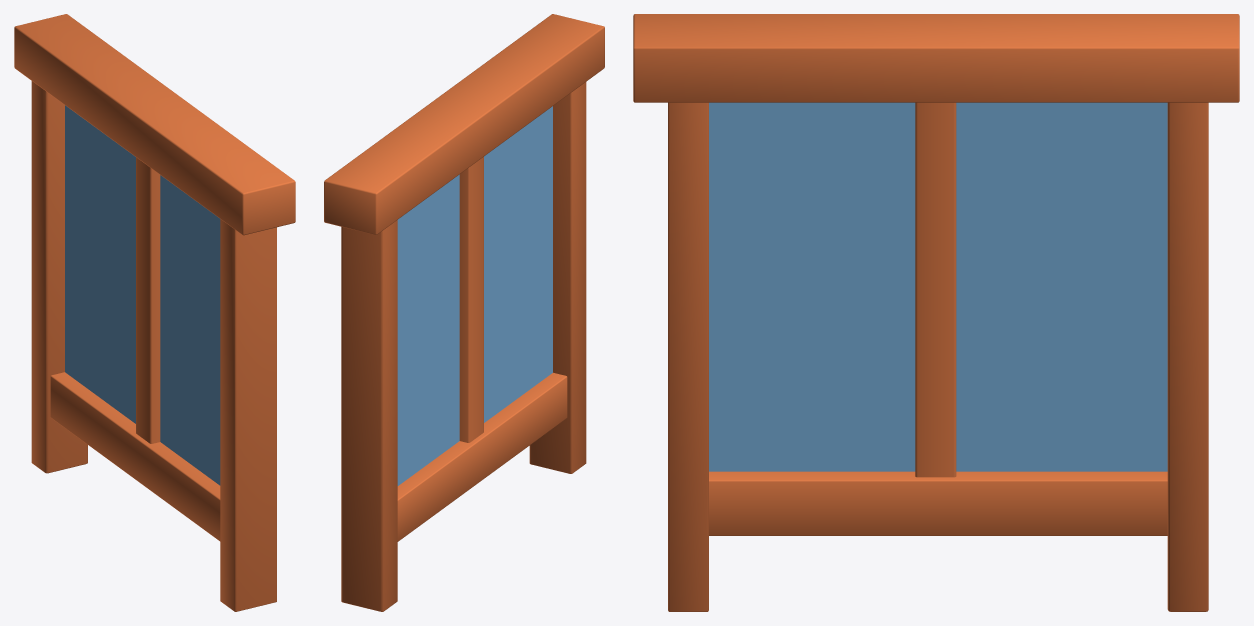
Rendered from FM_H_SH_01_Top_Win_001.fbx.
The picture shows the model from 3 angles, left to right: view 1: azimuth 30°, elevation 25°; view 2: azimuth 150°, elevation 25°; view 3: azimuth 270°, elevation 25°; orthographic projection. The views are drawn at different scales.
Parts seen in each view (by area): view 1: FM_H_SH_01_Top_Win_001; view 2: FM_H_SH_01_Top_Win_001; view 3: FM_H_SH_01_Top_Win_001.
Part boxes in pixels (x1,y1,x2,y2): FM_H_SH_01_Top_Win_001: (14,14,295,611); FM_H_SH_01_Top_Win_001: (324,14,604,611); FM_H_SH_01_Top_Win_001: (633,14,1239,611).
Size of the model in its own units: 0.1528 by 1.18 by 1.14.
